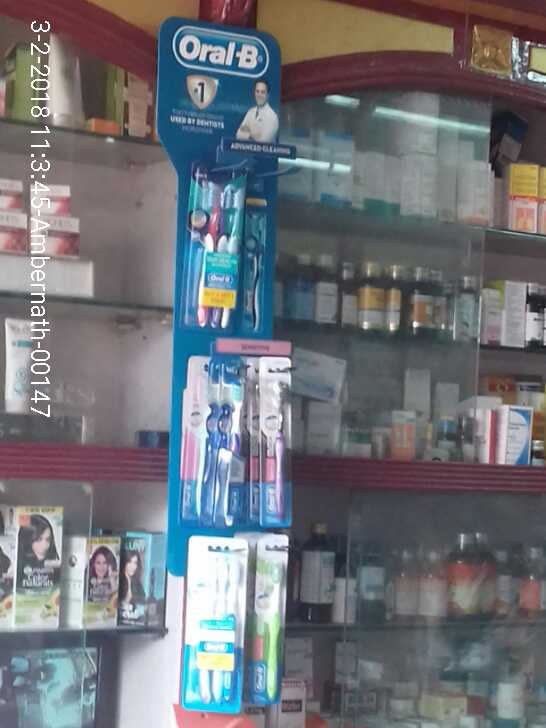oralb: (179, 533, 240, 713), (177, 160, 240, 327), (257, 352, 293, 527), (250, 534, 285, 704), (218, 358, 247, 525)
